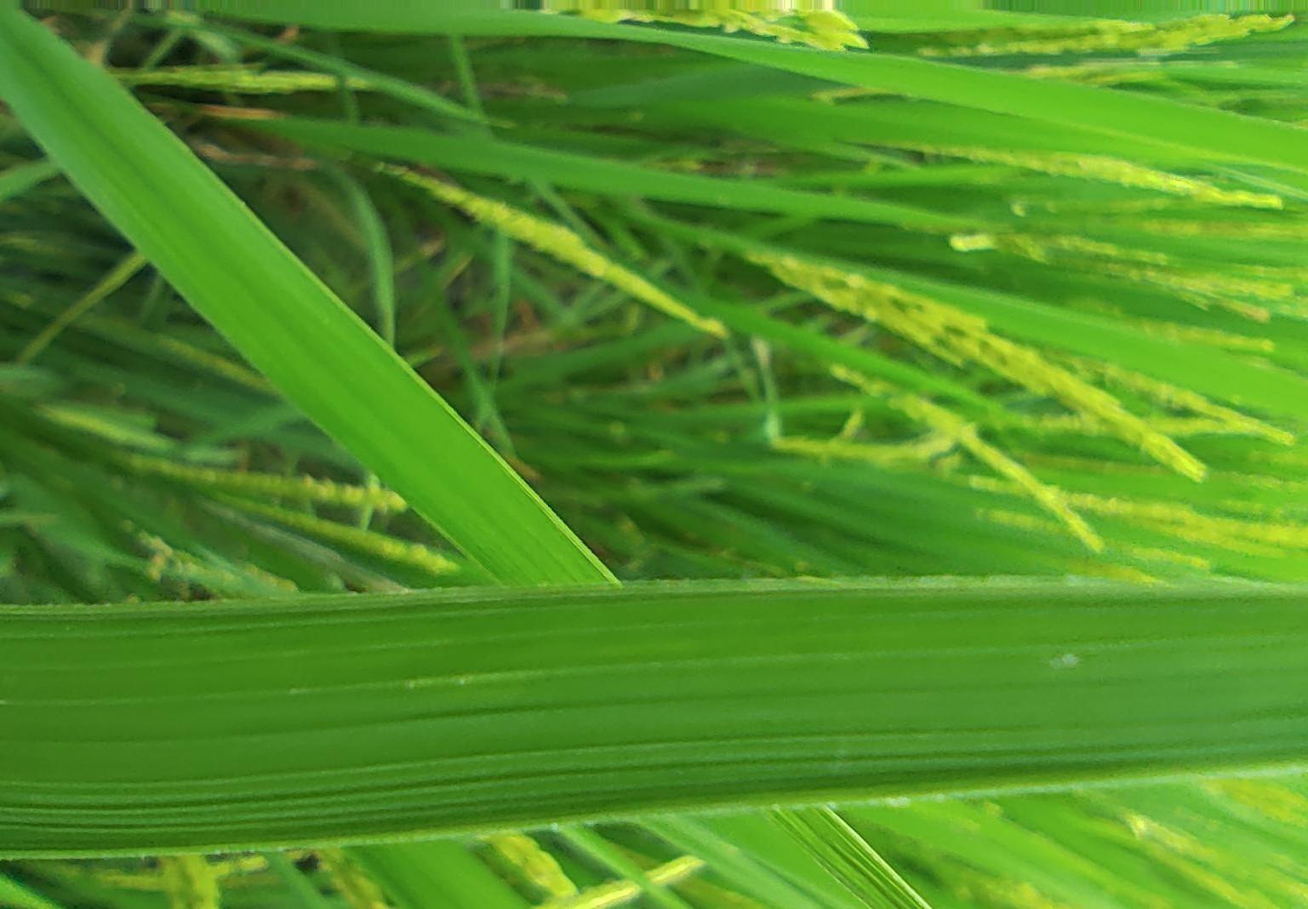Healthy: (0, 578, 1307, 856)
